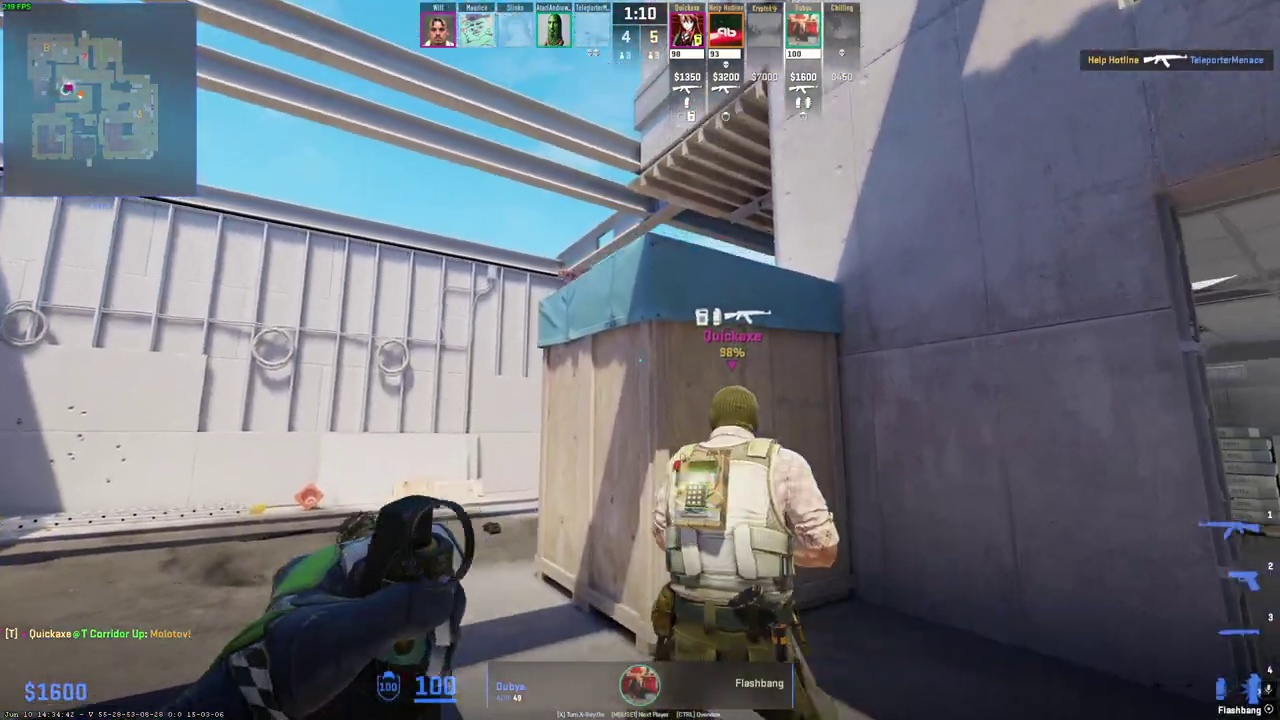Terrorist: (641, 381, 839, 720)
